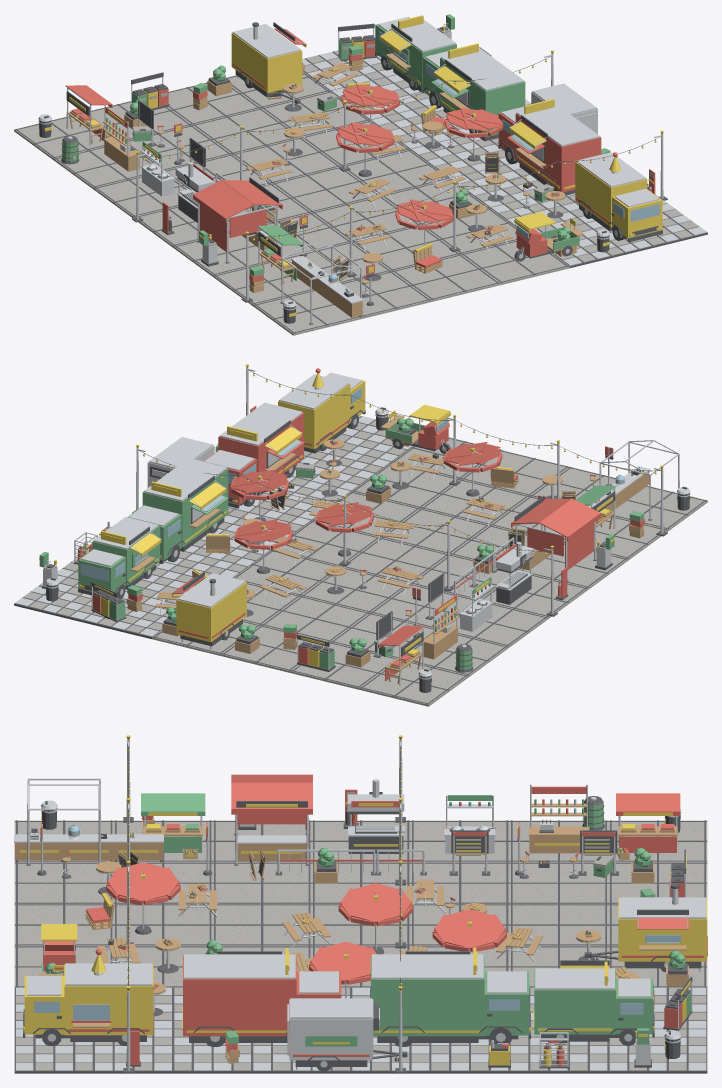
File: street-food-market-and-food-trucks-stree-ba97f08d-starter-scene__34323.glb
3 views of the same model, one above another, from view 1: azimuth 30°, elevation 25°; view 2: azimuth 150°, elevation 25°; view 3: azimuth 270°, elevation 25° (orthographic). The views are drawn at different scales.
Visible parts, largest first — view 1: 044-gazebo-stall-with-canopy/gazebo-stall-with-canopy-scarle, 075-ice-cream-van/ice-cream-van-canary, 076-food-truck-serving-open/food-truck-serving-open-scarlet, 020-market-floor-tile/market-floor-tile-concrete, 015-market-floor-tile/market-floor-tile-concrete, 080-pizza-trailer-with-chimney/pizza-trailer-with-chimney-ca, 017-market-floor-tile/market-floor-tile-concrete, 027-market-floor-tile/market-floor-tile-concrete, 006-market-floor-tile/market-floor-tile-concrete, 077-food-truck-serving-open/food-truck-serving-open-scarlet, 024-market-floor-tile/market-floor-tile-concrete, 016-market-floor-tile/market-floor-tile-concrete (+63 smaller); view 2: 044-gazebo-stall-with-canopy/gazebo-stall-with-canopy-scarle, 015-market-floor-tile/market-floor-tile-concrete, 075-ice-cream-van/ice-cream-van-canary, 080-pizza-trailer-with-chimney/pizza-trailer-with-chimney-ca, 018-market-floor-tile/market-floor-tile-concrete, 077-food-truck-serving-open/food-truck-serving-open-steel, 017-market-floor-tile/market-floor-tile-concrete, 076-food-truck-serving-open/food-truck-serving-open-steel, 000-market-floor-tile/market-floor-tile-concrete, 077-food-truck-serving-open/food-truck-serving-open-scarlet, 016-market-floor-tile/market-floor-tile-concrete, 019-market-floor-tile/market-floor-tile-concrete (+60 smaller); view 3: 077-food-truck-serving-open/food-truck-serving-open-scarlet, 076-food-truck-serving-open/food-truck-serving-open-scarlet, 079-chiller-trailer/chiller-trailer-steel, 075-ice-cream-van/ice-cream-van-canary, 078-coffee-van/coffee-van-leaf, 011-market-floor-tile/market-floor-tile-concrete, 008-market-floor-tile/market-floor-tile-concrete, 076-food-truck-serving-open/food-truck-serving-open-steel, 077-food-truck-serving-open/food-truck-serving-open-steel, 044-gazebo-stall-with-canopy/gazebo-stall-with-canopy-scarle, 013-market-floor-tile/market-floor-tile-concrete, 018-market-floor-tile/market-floor-tile-concrete (+91 smaller).
Part boxes in pixels (bbox=[...]): 044-gazebo-stall-with-canopy/gazebo-stall-with-canopy-scarle: bbox=[193, 180, 282, 252]; 075-ice-cream-van/ice-cream-van-canary: bbox=[575, 157, 662, 238]; 076-food-truck-serving-open/food-truck-serving-open-scarlet: bbox=[498, 112, 601, 192]; 020-market-floor-tile/market-floor-tile-concrete: bbox=[392, 254, 500, 301]; 015-market-floor-tile/market-floor-tile-concrete: bbox=[194, 108, 292, 153]; 080-pizza-trailer-with-chimney/pizza-trailer-with-chimney-ca: bbox=[231, 33, 306, 93]; 017-market-floor-tile/market-floor-tile-concrete: bbox=[272, 166, 378, 212]; 027-market-floor-tile/market-floor-tile-concrete: bbox=[461, 240, 569, 284]; 006-market-floor-tile/market-floor-tile-concrete: bbox=[253, 290, 362, 335]; 077-food-truck-serving-open/food-truck-serving-open-scarlet: bbox=[422, 57, 525, 137]; 024-market-floor-tile/market-floor-tile-concrete: bbox=[341, 150, 448, 193]; 016-market-floor-tile/market-floor-tile-concrete: bbox=[232, 138, 340, 183]; 044-gazebo-stall-with-canopy/gazebo-stall-with-canopy-scarle: bbox=[511, 498, 600, 570]; 015-market-floor-tile/market-floor-tile-concrete: bbox=[261, 596, 369, 641]; 075-ice-cream-van/ice-cream-van-canary: bbox=[278, 372, 365, 449]; 080-pizza-trailer-with-chimney/pizza-trailer-with-chimney-ca: bbox=[172, 582, 246, 642]; 018-market-floor-tile/market-floor-tile-concrete: bbox=[381, 509, 487, 553]; 077-food-truck-serving-open/food-truck-serving-open-steel: bbox=[128, 458, 227, 529]; 017-market-floor-tile/market-floor-tile-concrete: bbox=[341, 537, 447, 582]; 076-food-truck-serving-open/food-truck-serving-open-steel: bbox=[204, 402, 302, 470]; 000-market-floor-tile/market-floor-tile-concrete: bbox=[359, 662, 468, 706]; 077-food-truck-serving-open/food-truck-serving-open-scarlet: bbox=[127, 468, 228, 560]; 016-market-floor-tile/market-floor-tile-concrete: bbox=[301, 567, 408, 612]; 019-market-floor-tile/market-floor-tile-concrete: bbox=[421, 479, 527, 524]; 077-food-truck-serving-open/food-truck-serving-open-scarlet: bbox=[371, 955, 529, 1036]; 076-food-truck-serving-open/food-truck-serving-open-scarlet: bbox=[183, 955, 341, 1036]; 079-chiller-trailer/chiller-trailer-steel: bbox=[287, 998, 397, 1069]; 075-ice-cream-van/ice-cream-van-canary: bbox=[23, 955, 153, 1035]; 078-coffee-van/coffee-van-leaf: bbox=[534, 969, 652, 1034]; 011-market-floor-tile/market-floor-tile-concrete: bbox=[212, 862, 311, 904]; 008-market-floor-tile/market-floor-tile-concrete: bbox=[509, 862, 608, 904]; 076-food-truck-serving-open/food-truck-serving-open-steel: bbox=[184, 954, 338, 993]; 077-food-truck-serving-open/food-truck-serving-open-steel: bbox=[372, 954, 526, 993]; 044-gazebo-stall-with-canopy/gazebo-stall-with-canopy-scarle: bbox=[231, 774, 312, 829]; 013-market-floor-tile/market-floor-tile-concrete: bbox=[14, 862, 113, 904]; 018-market-floor-tile/market-floor-tile-concrete: bbox=[212, 905, 311, 945].
Bounding box in the file's own units: 24.42 × 3.97 × 28.05.
Materials: 8 (1 with a texture image).
